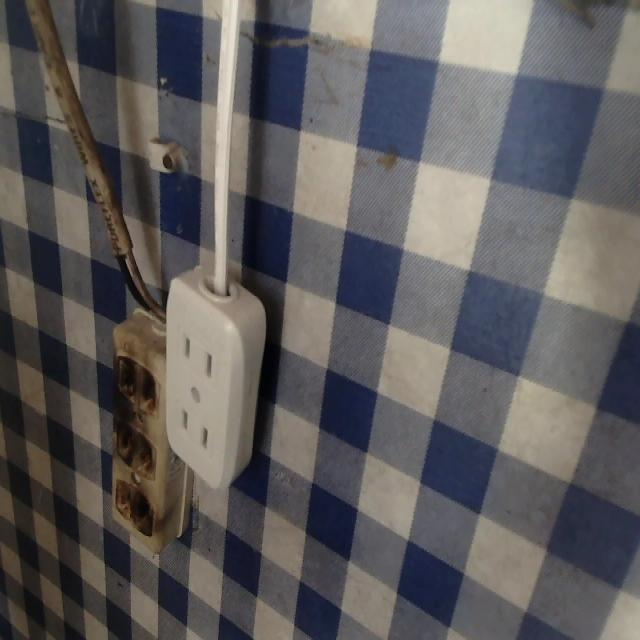-: (110, 352, 161, 420), (109, 421, 157, 476), (113, 481, 155, 539)
